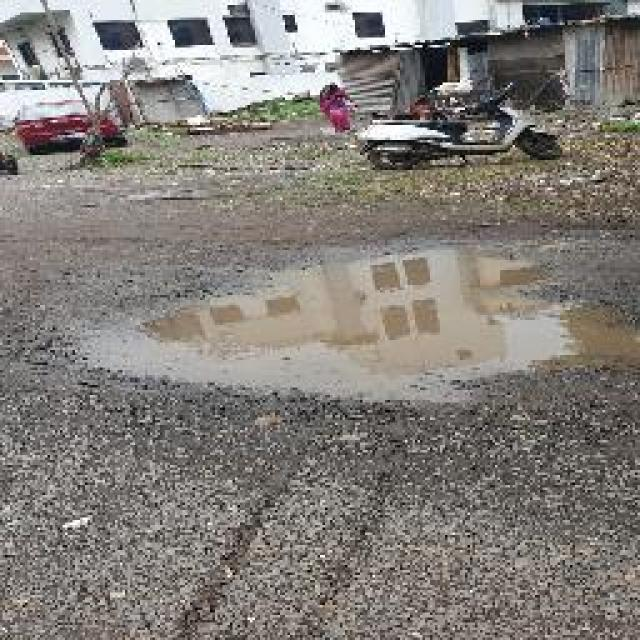stagnation: (86, 222, 640, 428)
